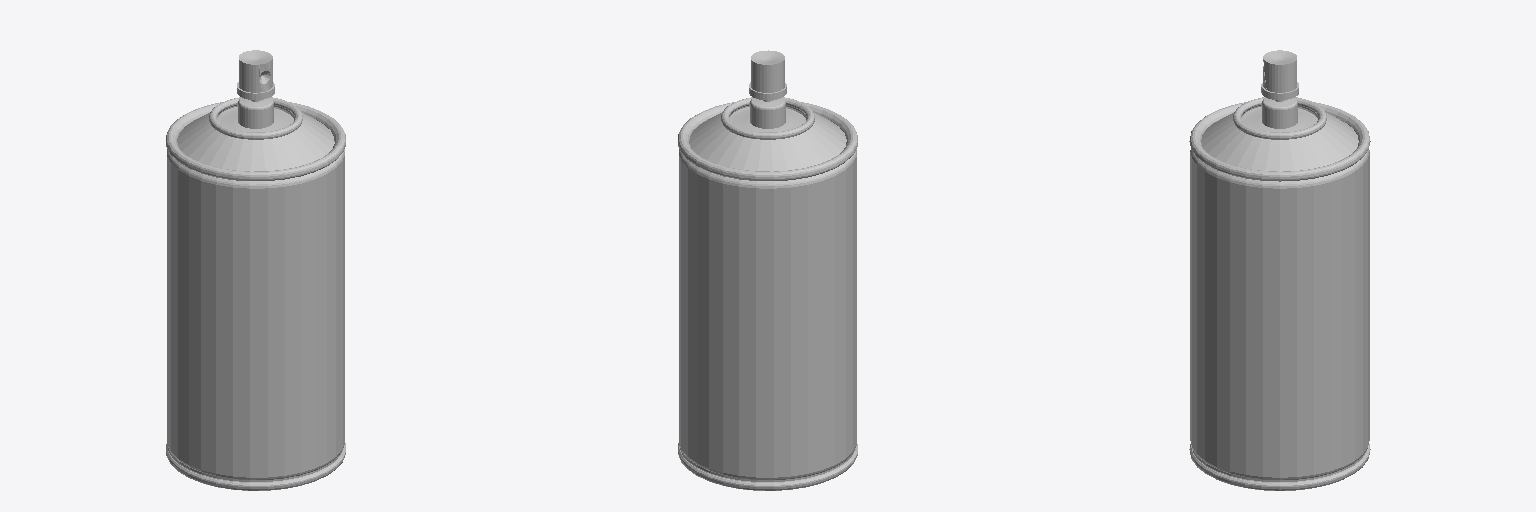
File: supertimor.obj
3 views of the same model, side by side, from view 1: azimuth 30°, elevation 25°; view 2: azimuth 150°, elevation 25°; view 3: azimuth 270°, elevation 25° (orthographic).
Visible parts, largest first — view 1: cantop_default; view 2: cantop_default; view 3: cantop_default.
Part boxes in pixels (x1,y1,x2,y2): cantop_default: (166,50,345,490); cantop_default: (678,50,857,490); cantop_default: (1189,50,1370,490).
Size of the model in its own units: 2.17 by 5.25 by 2.17.